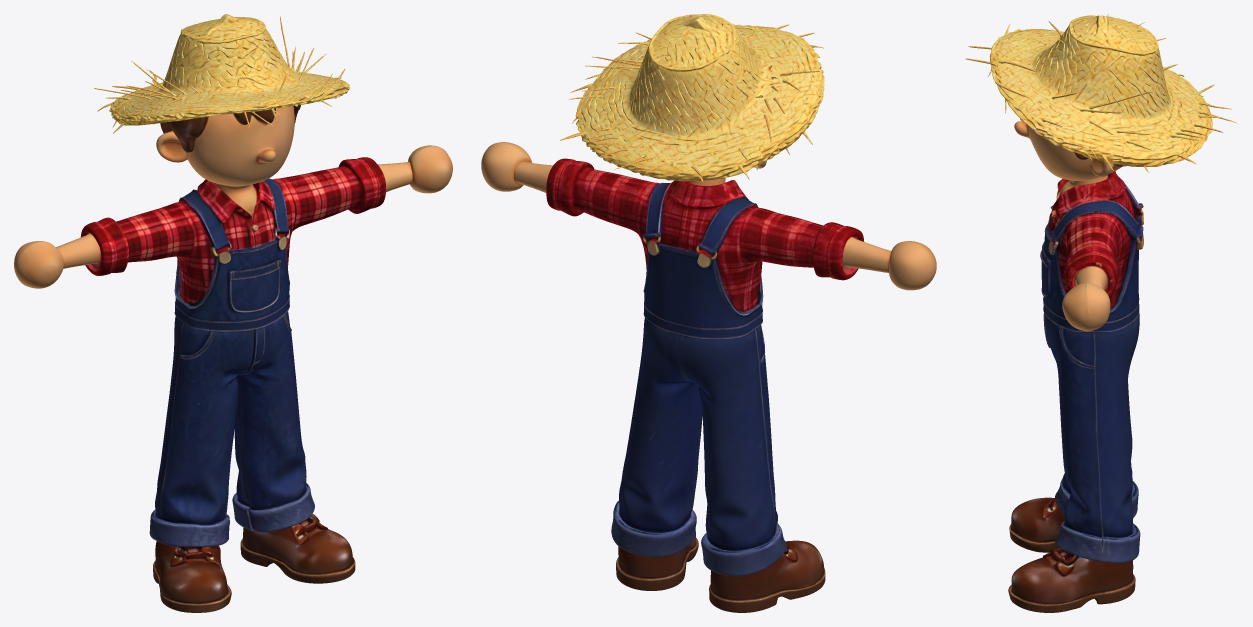
The model's file is cartoon_farmer_character_model.glb.
3 renders of one model, left to right at view 1: azimuth 30°, elevation 25°; view 2: azimuth 150°, elevation 25°; view 3: azimuth 270°, elevation 25°, orthographic. The views are drawn at different scales.
Parts seen in each view (by area): view 1: Object_2, Object_3, Object_6, Object_4, Object_5, Object_7; view 2: Object_2, Object_4, Object_3, Object_6, Object_5; view 3: Object_4, Object_6, Object_2, Object_3, Object_5, Object_7.
Boxes of the visible parts, x1,y1,x2,y2 form: Object_2: (14, 113, 365, 523); Object_3: (111, 85, 378, 524); Object_6: (149, 108, 452, 612); Object_4: (103, 14, 350, 127); Object_5: (94, 14, 345, 344); Object_7: (177, 320, 305, 501); Object_2: (573, 165, 936, 550); Object_4: (570, 14, 824, 176); Object_3: (555, 81, 797, 545); Object_6: (481, 142, 825, 612); Object_5: (560, 16, 823, 241); Object_4: (965, 15, 1237, 170); Object_6: (1008, 123, 1140, 612); Object_2: (1040, 165, 1143, 537); Object_3: (996, 69, 1212, 536); Object_5: (1000, 14, 1205, 289); Object_7: (1059, 340, 1138, 539).
Size of the model in its own units: 1.56 by 1.89 by 0.8469.
1 material, 1 textured.
